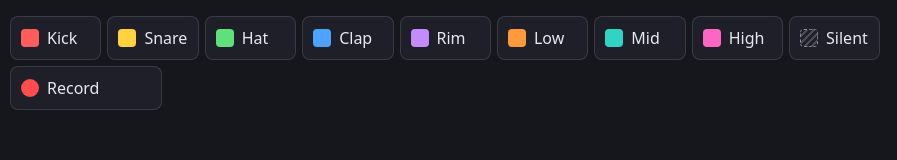
Scenario: Palette › recording › shows an error message inline
This screenshot has width=897, height=160.
What coordinates should you click on to do the following:
click the button "Record"
I would click on:
 (86, 88)
Its box is [10,66,162,110].
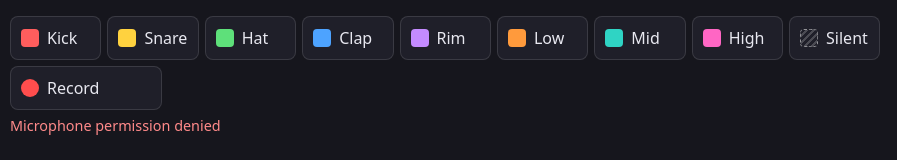
Check: the message reads "Microphone permission denied", box [10,116,221,135]
